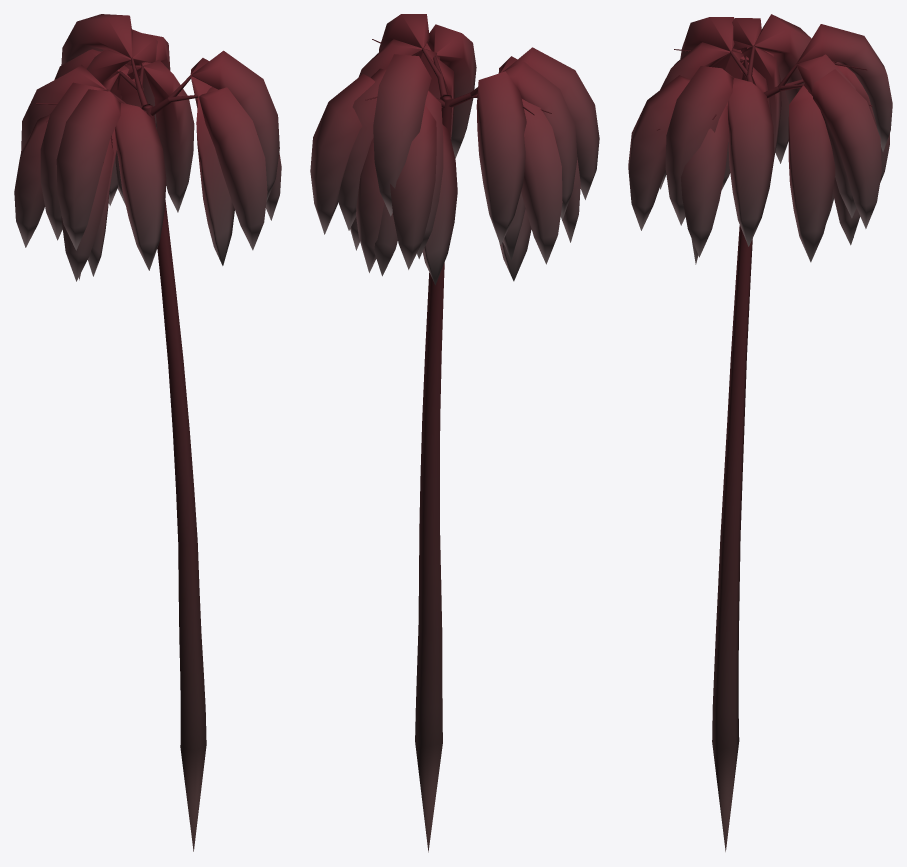
Rendered from plants-trees-palms-red-palm-tree_v1.glb.
3 views of the same model, side by side, from view 1: azimuth 30°, elevation 25°; view 2: azimuth 150°, elevation 25°; view 3: azimuth 270°, elevation 25° (orthographic). The views are drawn at different scales.
Parts seen in each view (by area): view 1: Red Palm Tree_v1; view 2: Red Palm Tree_v1; view 3: Red Palm Tree_v1.
Boxes of the visible parts, bbox=[...] form: Red Palm Tree_v1: bbox=[14, 14, 281, 851]; Red Palm Tree_v1: bbox=[310, 14, 599, 852]; Red Palm Tree_v1: bbox=[628, 14, 892, 851].
Size of the model in its own units: 1.47 by 5 by 1.48.
